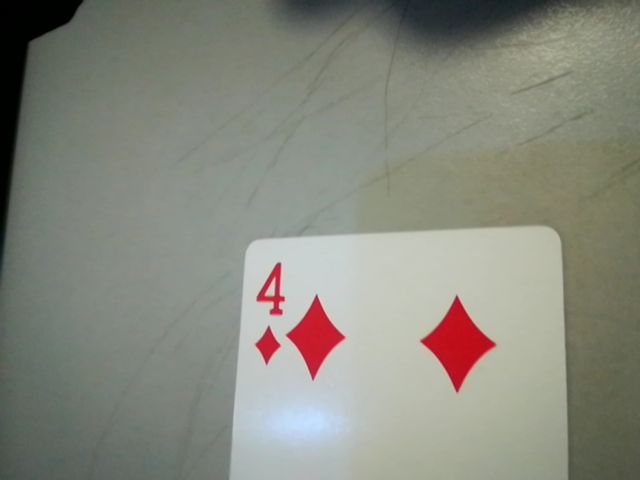fk 4: (240, 255, 297, 374)
